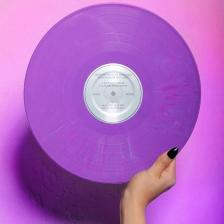purple: (24, 4, 201, 183), (20, 137, 127, 224)
